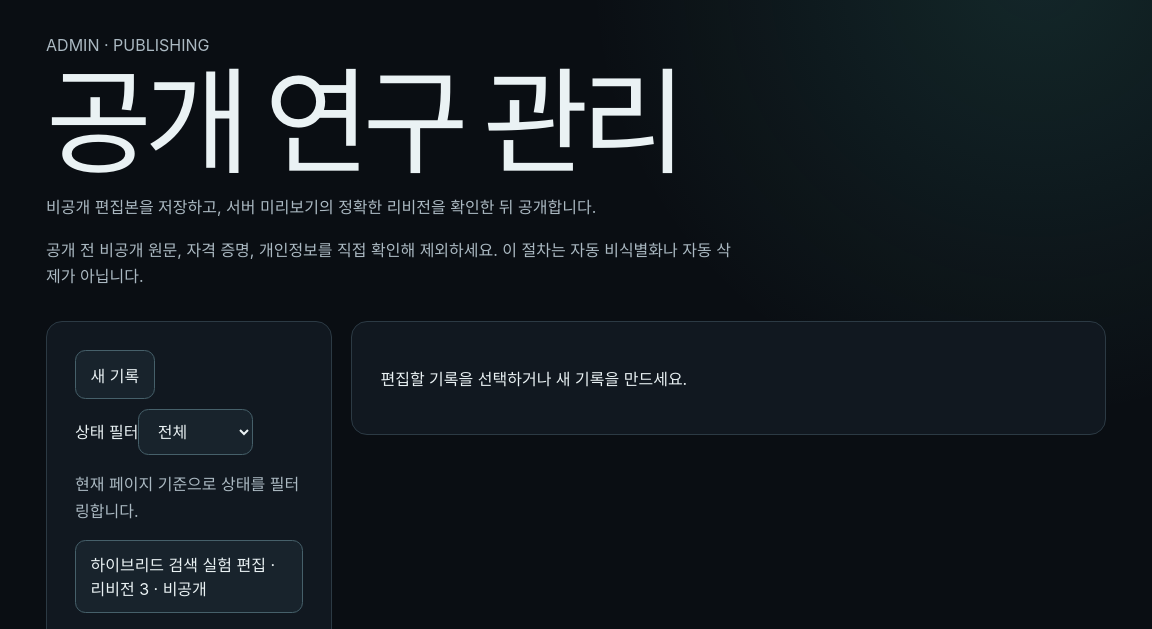
Test: retains one request id for an ambiguous retry and shows pending as not yet applied
Click the button "하이브리드 검색 실험 편집 · 리비전 3 · 비공개" at [189, 576], box [75, 540, 303, 613]
(page scrolled)
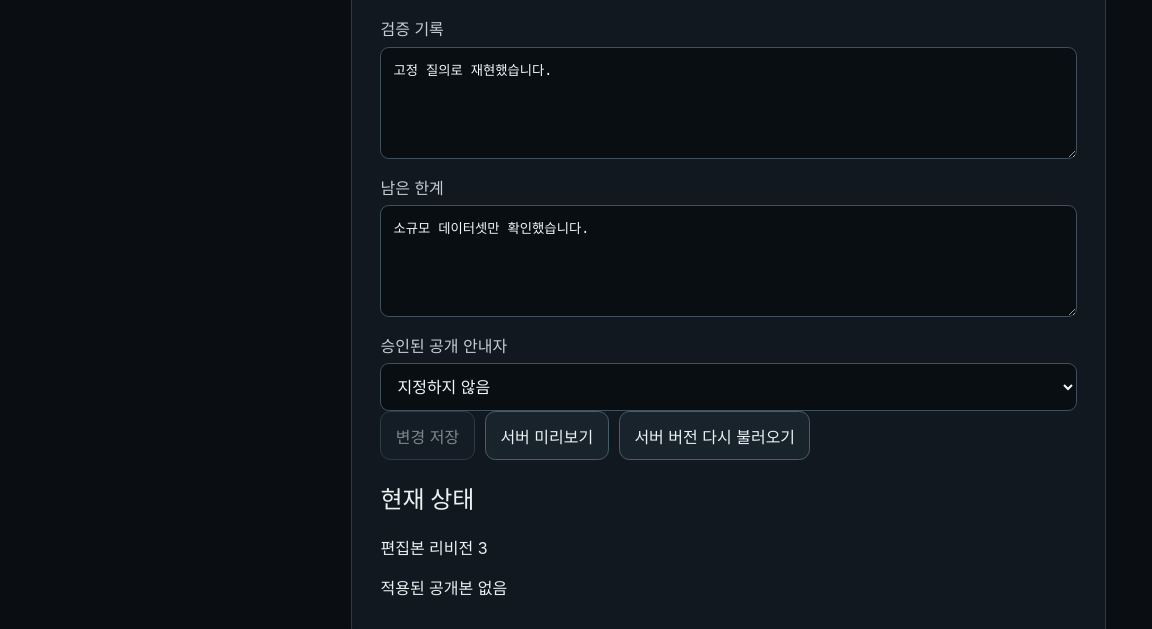
Click the button "서버 미리보기" at [547, 436], box [485, 411, 609, 460]
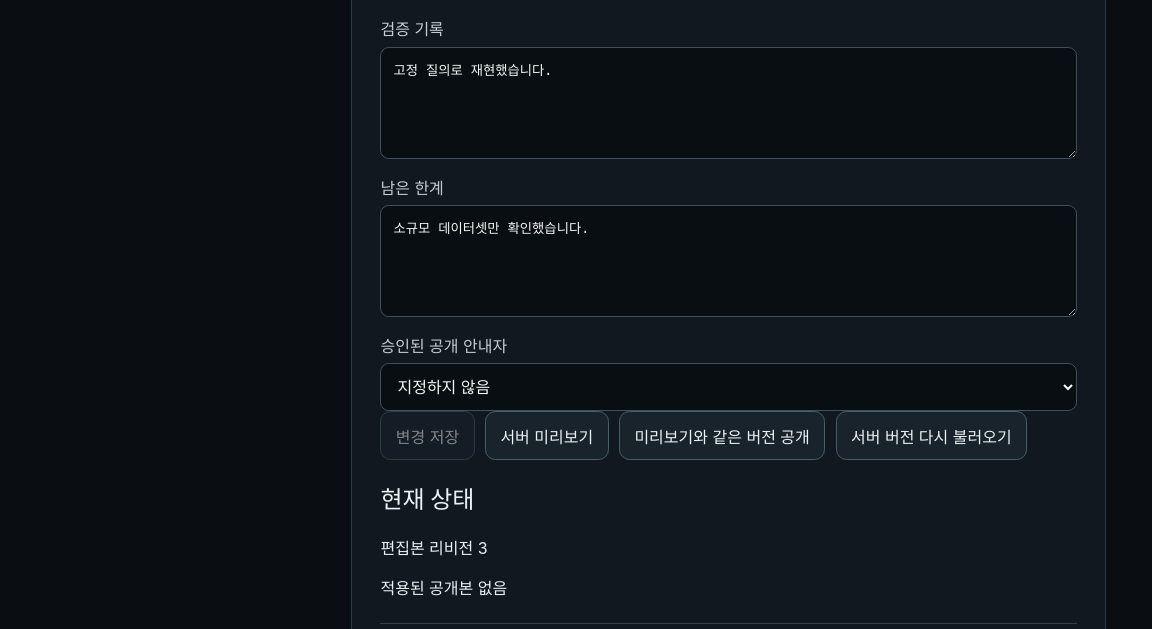
Click the button "미리보기와 같은 버전 공개" at [722, 436], box [619, 411, 825, 460]
(page scrolled)
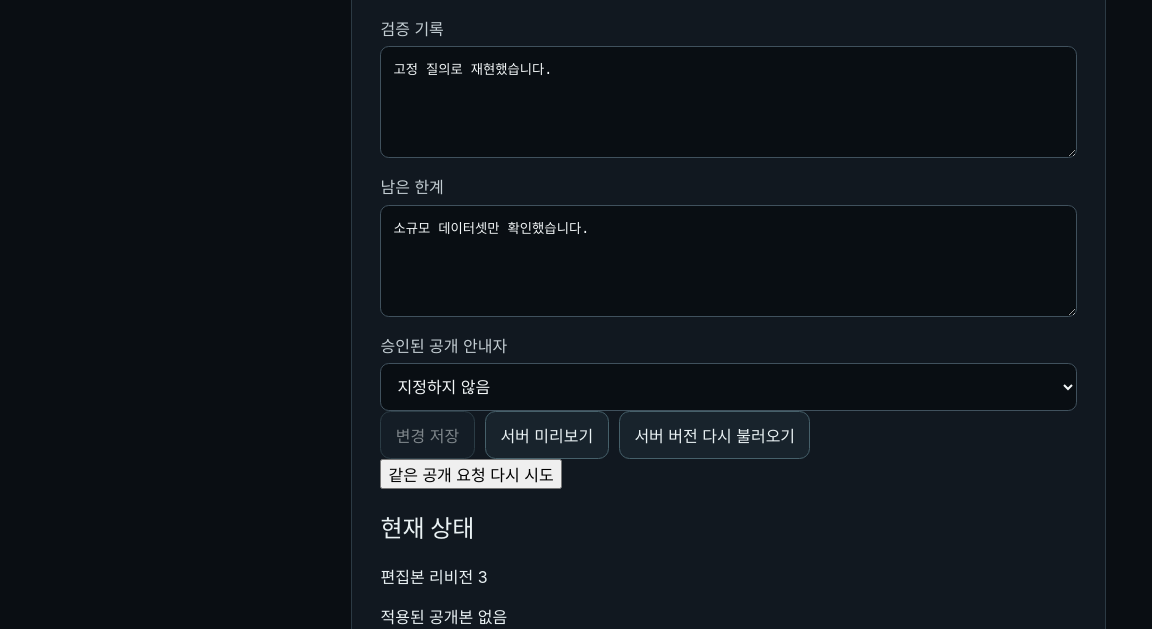
Click the button "같은 공개 요청 다시 시도" at [471, 474], box [380, 459, 562, 489]
(page scrolled)
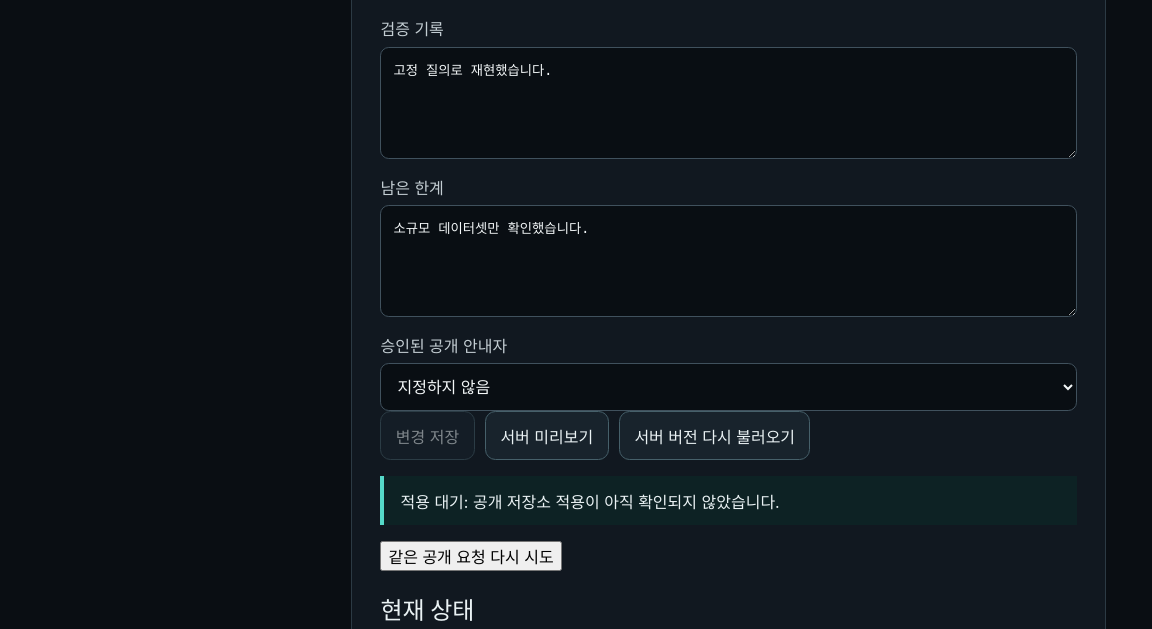
Expected: the message shows "적용 대기", [400, 492, 780, 512]
